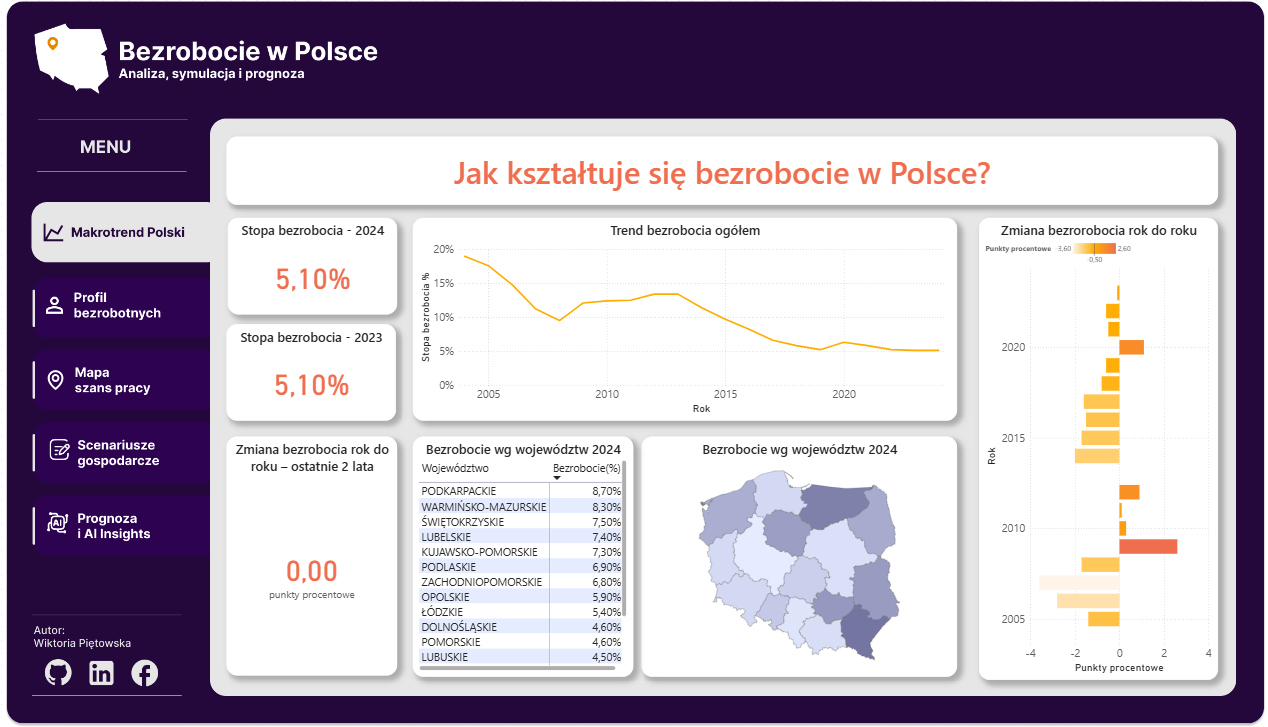

Layout of this report page (visuals, bound fields, positions):
{"tool":"powerbi","page":{"name":"Strona 1","canvas":[2360,1360],"ordinal":0},"visuals":[{"type":"image","box":[10,0,2350,1360],"z":0},{"type":"lineChart","title":"Trend bezrobocia ogółem","fields":{"Category":["StopaBezrobocia.Rok"],"Y":["Sum(StopaBezrobocia.Stopa%)"]},"box":[770,407.5,1012.5,377.5],"z":1000},{"type":"card","fields":{"Values":["#Miary.OstatniaStopa_PL"]},"box":[425,407.5,315,180],"z":2000},{"type":"card","fields":{"Values":["#Miary.S1_Poprzednia_Stopa_PL"]},"box":[422.5,605,315,180],"z":3000},{"type":"card","title":"Zmiana bezrobocia rok do roku – ostatnie 2 lata","fields":{"Values":["#Miary.ZmianaYoY_PL"]},"box":[422.5,815,317.5,445],"z":4000},{"type":"barChart","title":"Zmiana bezrorobocia rok do roku","fields":{"Category":["StopaBezrobocia.Rok"],"Y":["#Miary.ZmianaYoY_PL"]},"box":[1822.5,407.5,445,860],"z":5000},{"type":"shapeMap","fields":{"Value":["#Miary.OstatniaStopa_Woj"],"Category":["StopaBezrobocia.name"]},"box":[1195,815,587.5,447.5],"z":6000},{"type":"shape","box":[50,520,335,107.5],"z":7000},{"type":"pivotTable","fields":{"Rows":["StopaBezrobocia.name"],"Values":["#Miary.OstatniaStopa_Woj"]},"box":[770,815,410,447.5],"z":8000},{"type":"shape","box":[50,655,335,107.5],"z":9000},{"type":"shape","box":[72.5,1222.5,65,61.2],"z":10000},{"type":"shape","box":[155,1222.5,62.5,61.2],"z":11000},{"type":"card","fields":{"Values":["#MiaryTytuly.Tytul8"]},"box":[422.5,255,1845,127.5],"z":12000},{"type":"shape","box":[50,785,335,107.5],"z":13000},{"type":"shape","box":[50,930,335,107.5],"z":14000}]}

Visuals, with their boxes in screenshot pixels (x1, y1, x2, y2), scaled from the page's 2360x1360 canvas onto the 1268x727 screenshot:
image: 5:0:1267:726
"Trend bezrobocia ogółem" lineChart: 414:218:958:420
card - #Miary.OstatniaStopa_PL: 228:218:398:314
card - #Miary.S1_Poprzednia_Stopa_PL: 227:323:396:420
"Zmiana bezrobocia rok do roku – ostatnie 2 lata" card: 227:436:398:674
"Zmiana bezrorobocia rok do roku" barChart: 979:218:1218:678
shapeMap - #Miary.OstatniaStopa_Woj x StopaBezrobocia.name: 642:436:958:675
shape: 27:278:207:335
pivotTable - StopaBezrobocia.name x #Miary.OstatniaStopa_Woj: 414:436:634:675
shape: 27:350:207:408
shape: 39:653:74:686
shape: 83:653:117:686
card - #MiaryTytuly.Tytul8: 227:136:1218:204
shape: 27:420:207:477
shape: 27:497:207:555
